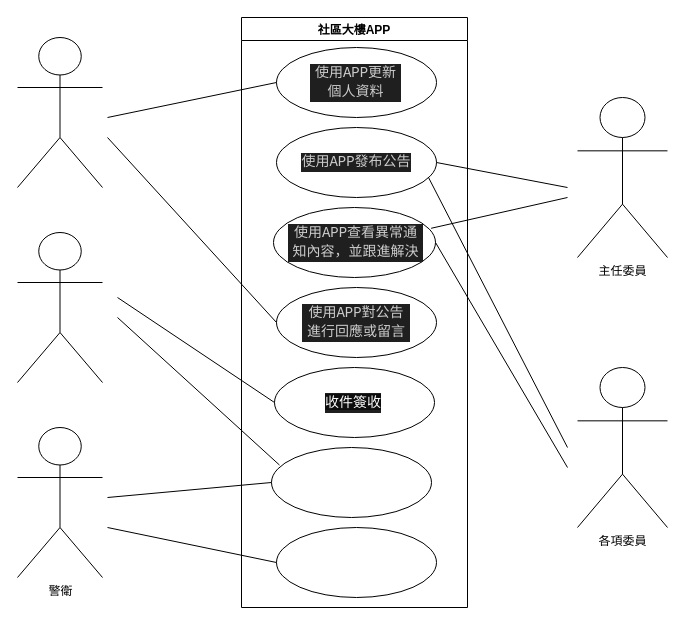
This 685x625 diagram has some shape labels left out. Here are the shapes that lost their labels. From the top down, the centre of each, then its label:
(x=59, y=112): 住戶
(x=59, y=307): 郵差
(x=351, y=482): 使用APP查看收件時間和所在樓層
(x=356, y=562): 使用APP查看事件通知內容
